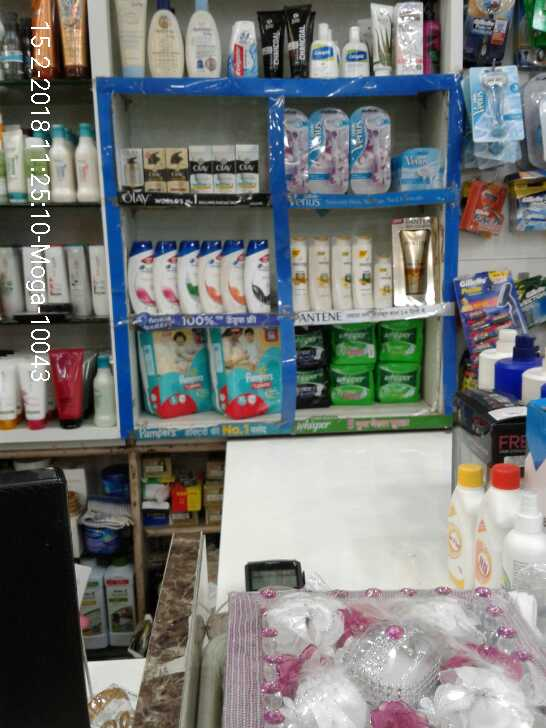gillete: (456, 271, 518, 354), (463, 184, 507, 234), (513, 178, 546, 231), (469, 1, 498, 58), (522, 277, 546, 328)
venus: (310, 107, 353, 193), (475, 63, 523, 139), (353, 107, 394, 190), (281, 107, 310, 193), (396, 147, 443, 190)
